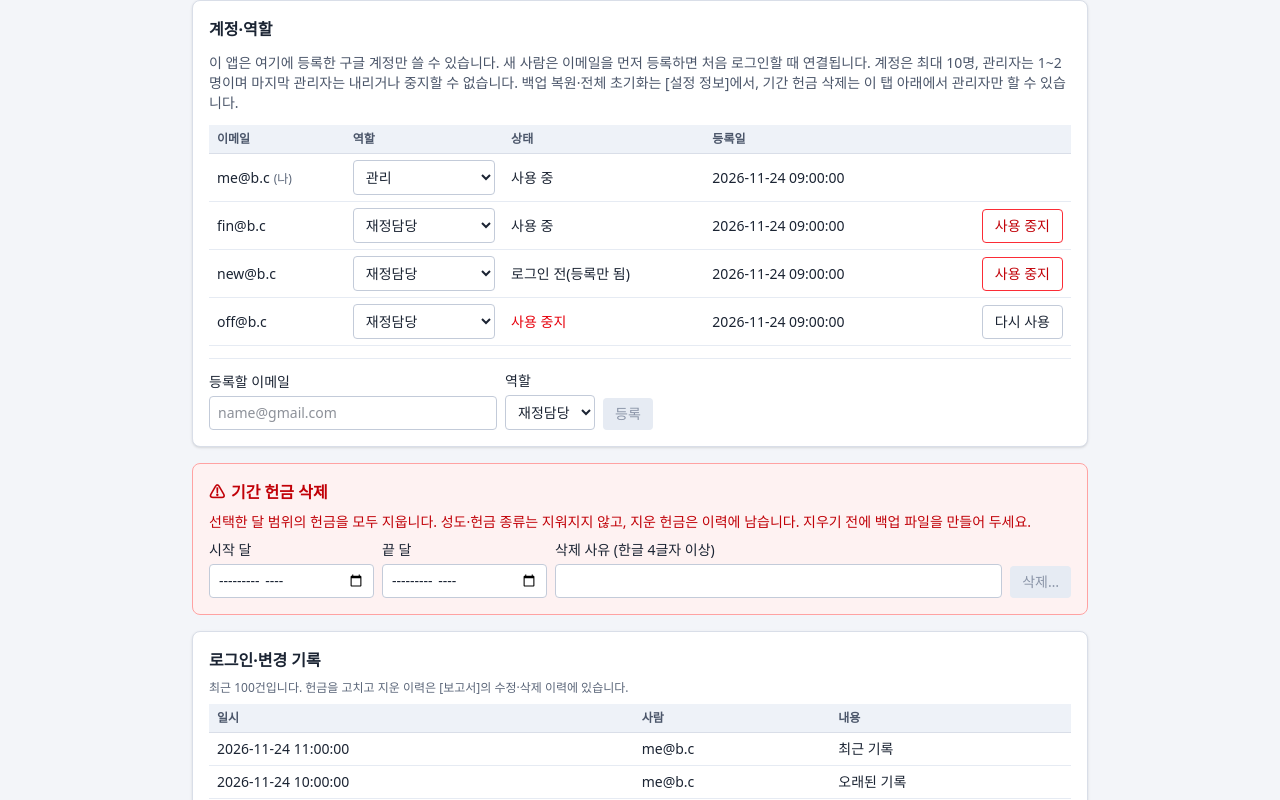
Test case: 관리자 탭 › 내 역할을 낮추려면 확인을 받고, [취소]하면 바꾸지 않는다
Later steps or results of the test are not shown.
Expected: the text "fin@b.c" is shown, [209,202,345,250]
Step 1. Select "열람" in the dropdown named "me@b.c 역할" → (424, 178), box [353,160,495,195]
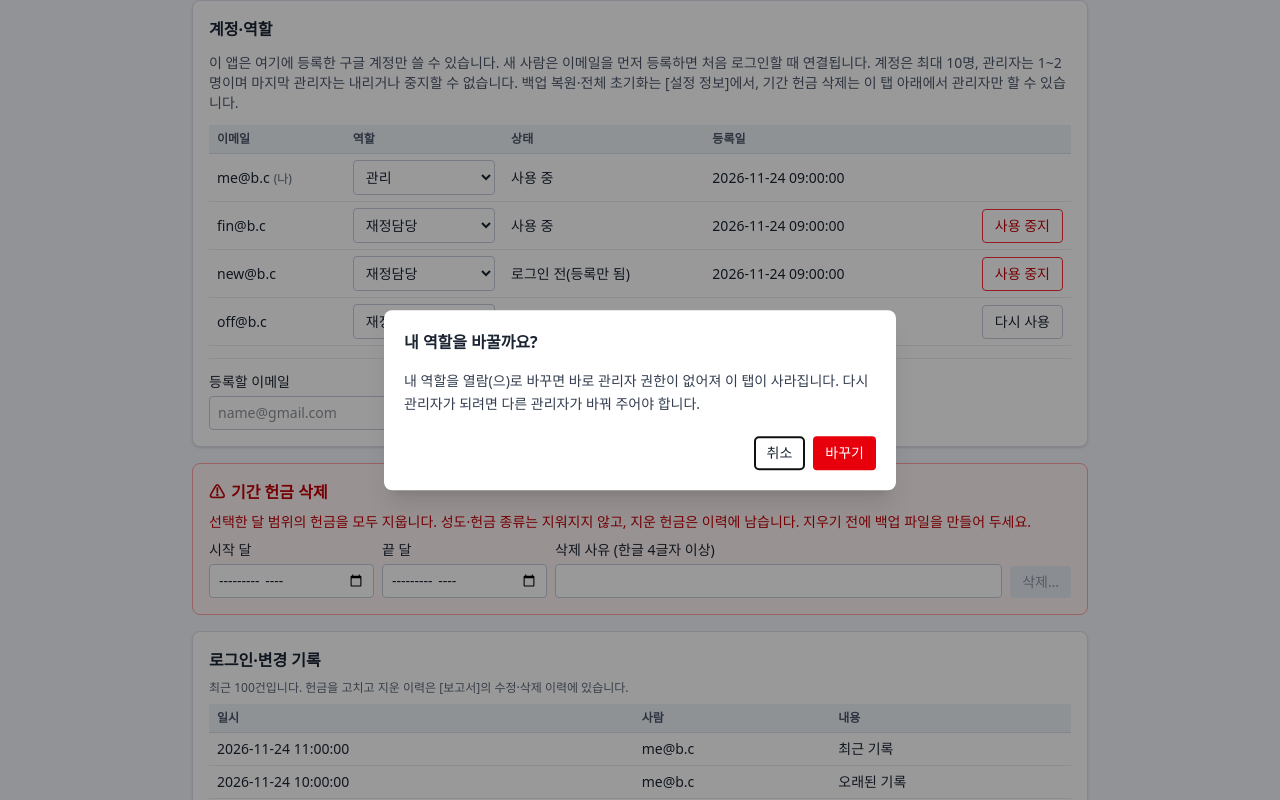
Expected: the dialog "내 역할을 바꿀까요?" is shown, [384,310,896,490]
